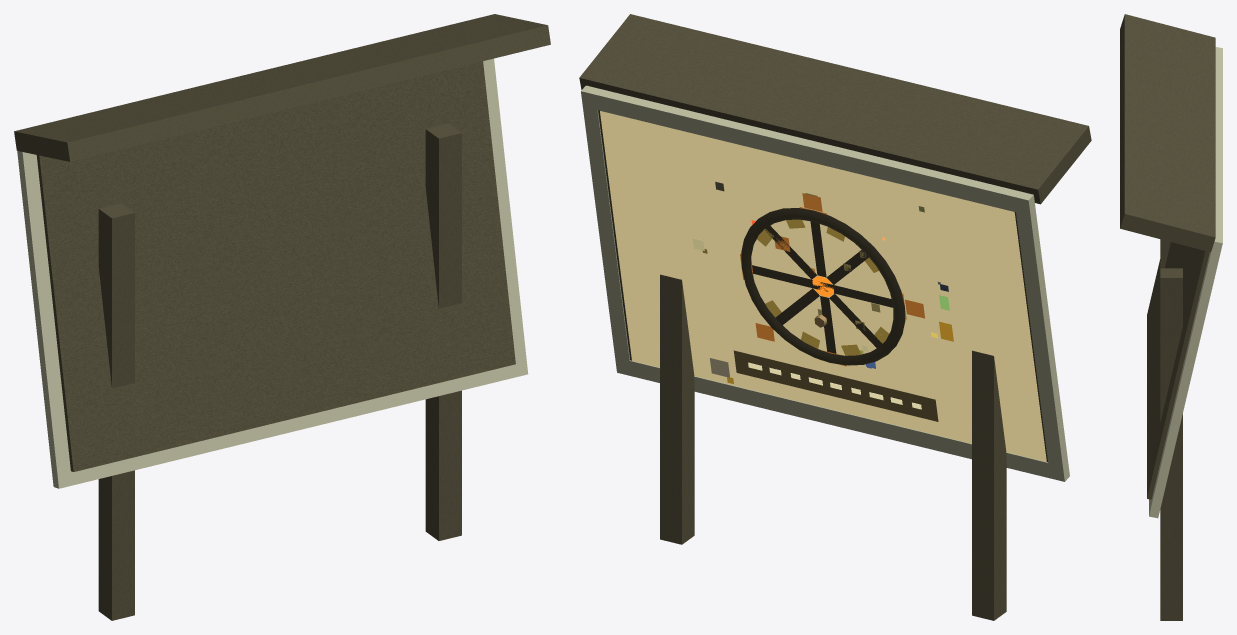
The model's file is candidate.glb.
The picture shows the model from 3 angles, left to right: view 1: azimuth 30°, elevation 25°; view 2: azimuth 150°, elevation 25°; view 3: azimuth 270°, elevation 25°; orthographic projection. The views are drawn at different scales.
Visible parts, largest first — view 1: mb3_0, mb3_1; view 2: mb3_2, mb3_0, mb3_1, mb3_6, mb3_3, mb3_9, mb3_8, mb3_7; view 3: mb3_0, mb3_1.
Boxes of the visible parts, x1,y1,x2,y2 form: mb3_0: (14, 14, 550, 620); mb3_1: (17, 58, 528, 488); mb3_2: (600, 111, 1046, 461); mb3_0: (579, 14, 1091, 620); mb3_1: (581, 85, 1069, 481); mb3_6: (741, 208, 905, 365); mb3_3: (733, 350, 938, 421); mb3_9: (757, 219, 888, 355); mb3_8: (740, 193, 925, 366); mb3_7: (752, 265, 892, 307); mb3_0: (1120, 14, 1215, 620); mb3_1: (1149, 47, 1222, 518).
Bounding box in the file's own units: 2.5 × 2.53 × 0.5431.
26 materials, 1 textured.
